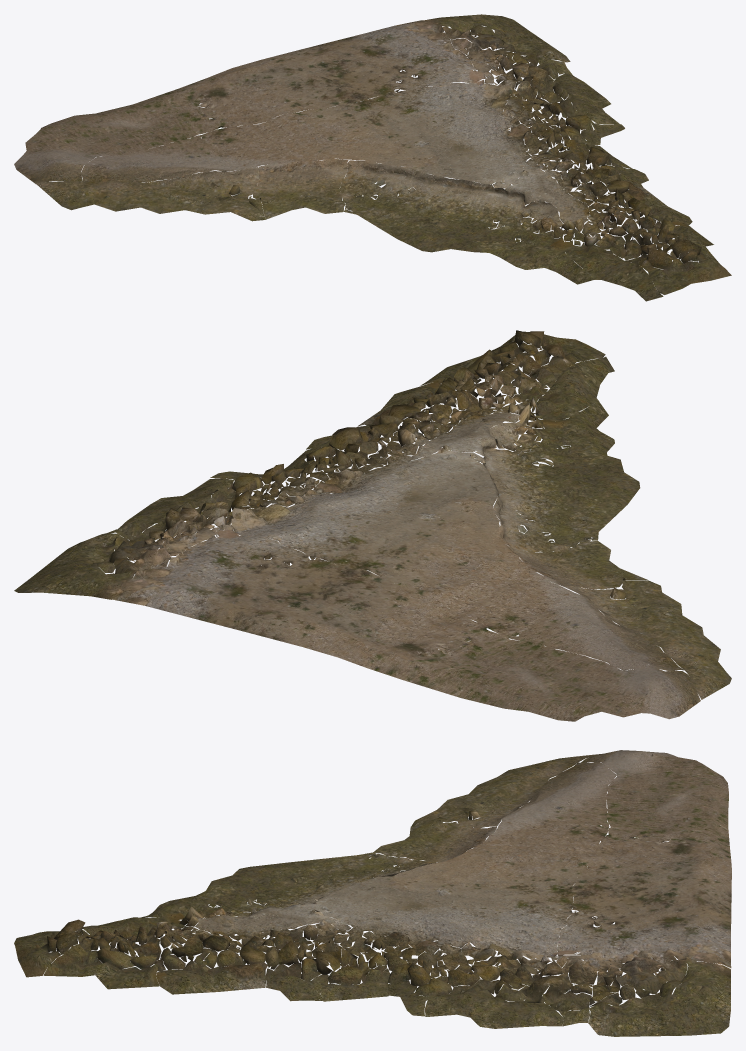
File: kf_coast_rocks_b.glb
3 views of the same model, one above another, from view 1: azimuth 30°, elevation 25°; view 2: azimuth 150°, elevation 25°; view 3: azimuth 270°, elevation 25° (orthographic). The views are drawn at different scales.
Parts seen in each view (by area): view 1: coast_rocks_02; view 2: coast_rocks_02; view 3: coast_rocks_02.
Boxes of the visible parts, <box> form: coast_rocks_02: <box>14,14,731,301</box>; coast_rocks_02: <box>14,330,731,721</box>; coast_rocks_02: <box>14,750,731,1036</box>.
Size of what is drawn, in the model's own units: 45.98 by 3.05 by 49.46.
1 material, 1 textured.
